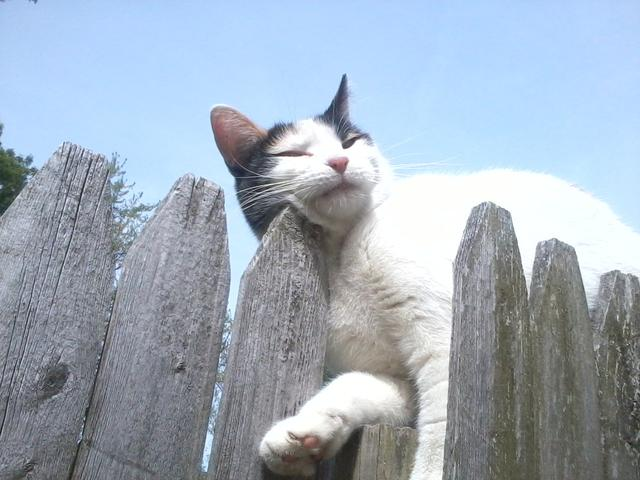cat: (164, 45, 481, 465)
